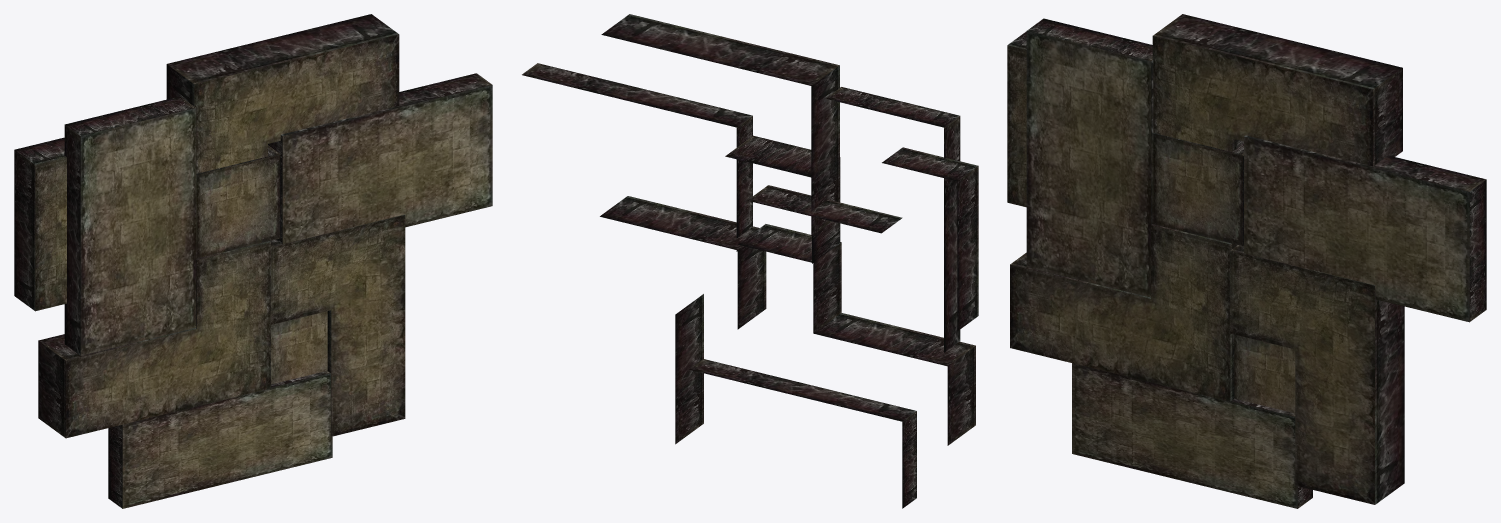
3 renders of one model, left to right at view 1: azimuth 30°, elevation 25°; view 2: azimuth 150°, elevation 25°; view 3: azimuth 330°, elevation 25°, orthographic. The views are drawn at different scales.
Parts seen in each view (by area): view 1: model_Object01; view 2: model_Object01; view 3: model_Object01.
Part boxes in pixels (x1=…): model_Object01: x1=14, y1=14, x2=492, y2=508; model_Object01: x1=522, y1=14, x2=978, y2=508; model_Object01: x1=1007, y1=14, x2=1486, y2=508.
Size of the model in its own units: 3.95 by 3.45 by 0.5372.
1 material, 1 textured.
